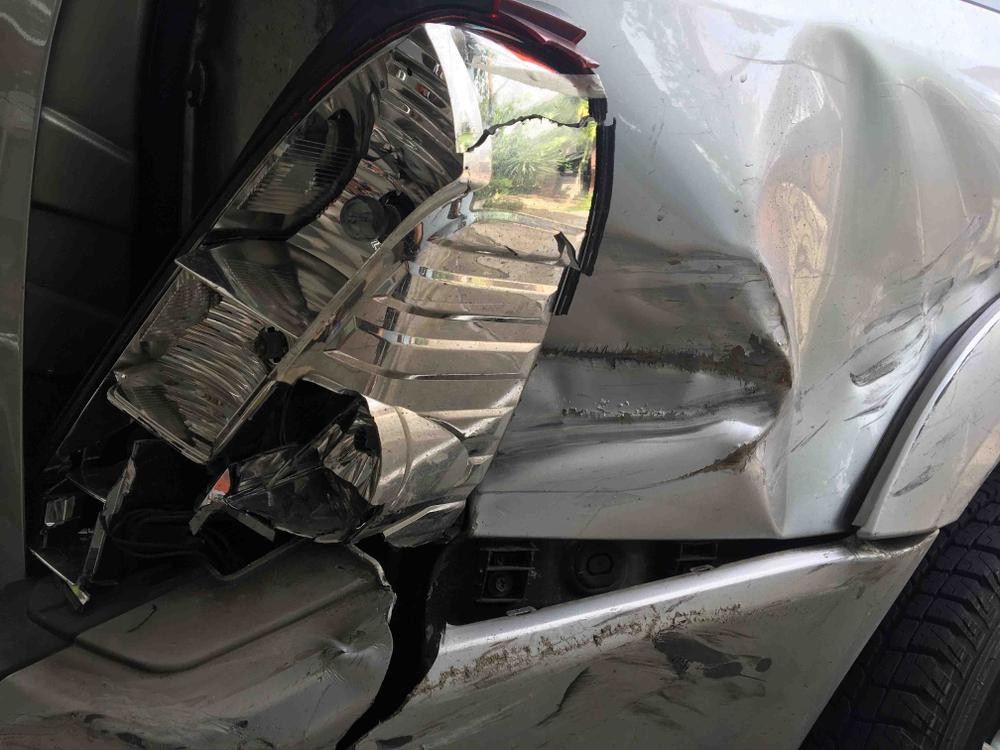crack: (335, 571, 448, 750)
dent: (482, 28, 1000, 530)
lamp broken: (31, 11, 616, 602)
scratch: (373, 587, 790, 750), (57, 704, 270, 750)
